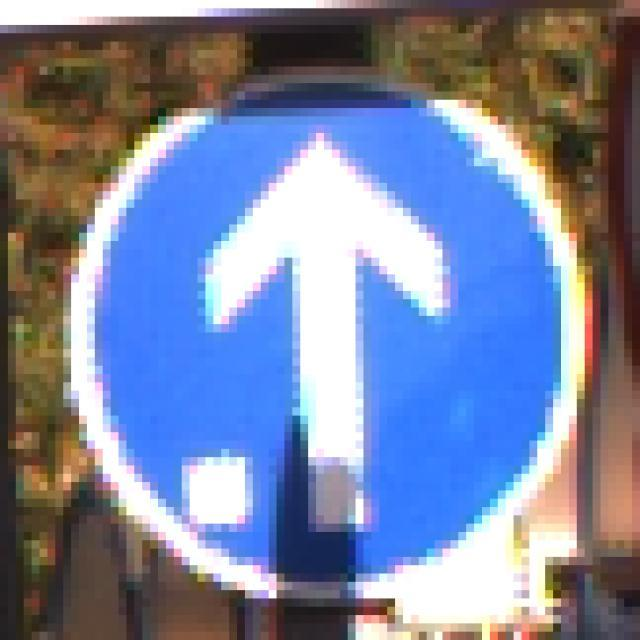compulsary ahead: (74, 69, 591, 593)
